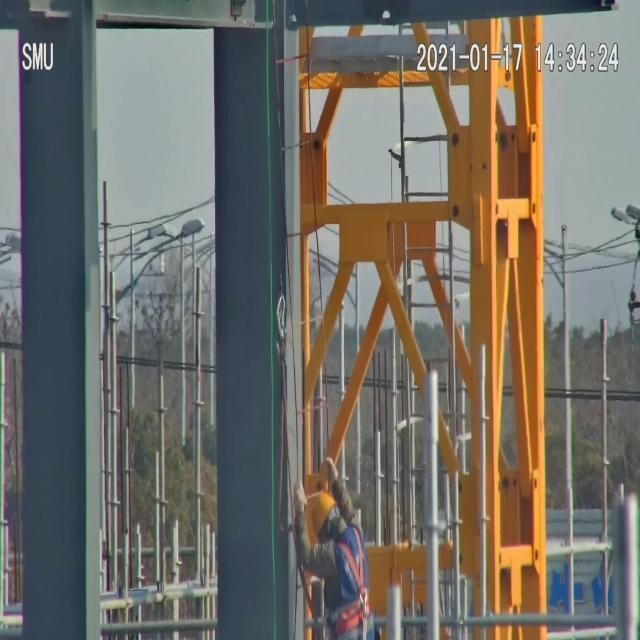Arnes_seguridad: (324, 521, 376, 639)
